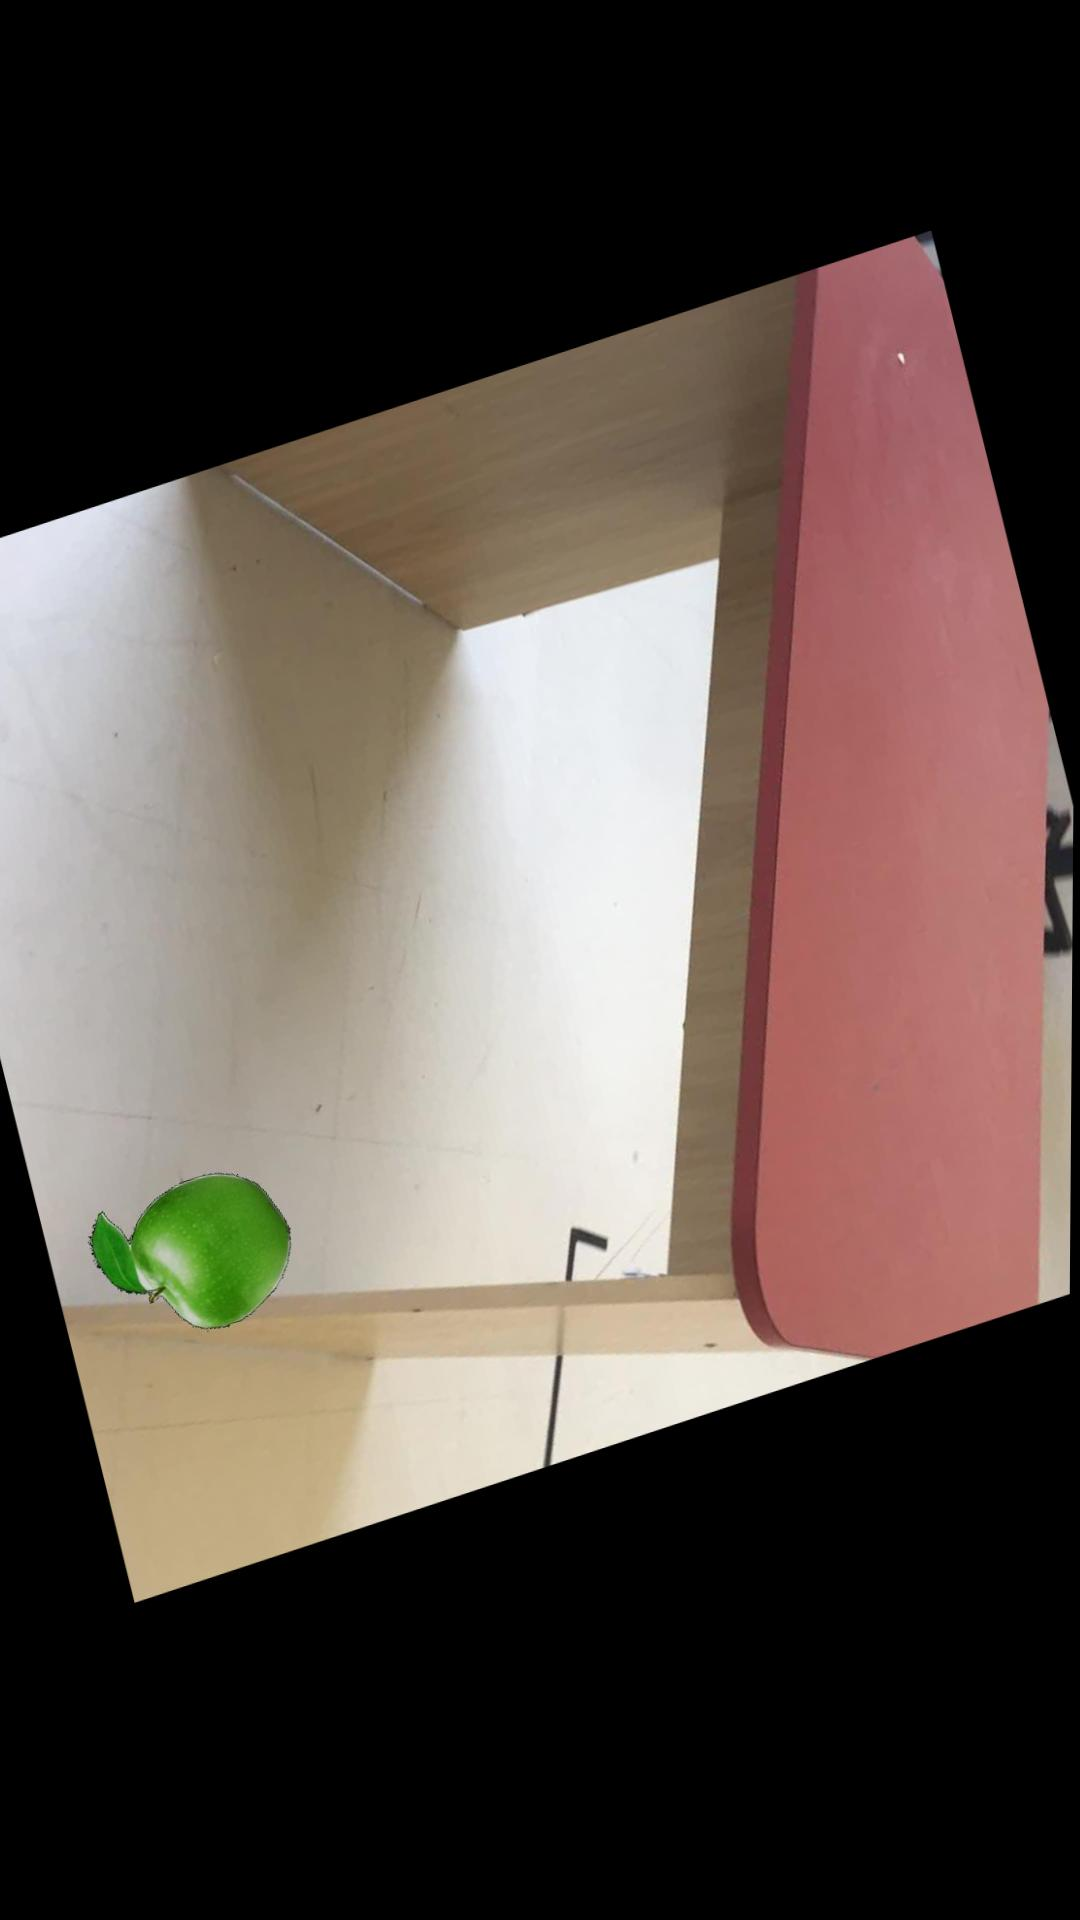green apple: (92, 1176, 294, 1333)
